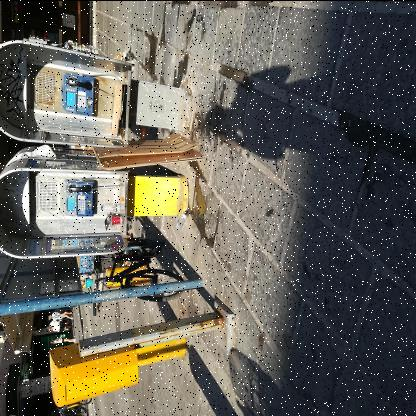cardboard: (96, 131, 198, 157)
plastic: (176, 210, 188, 230)
